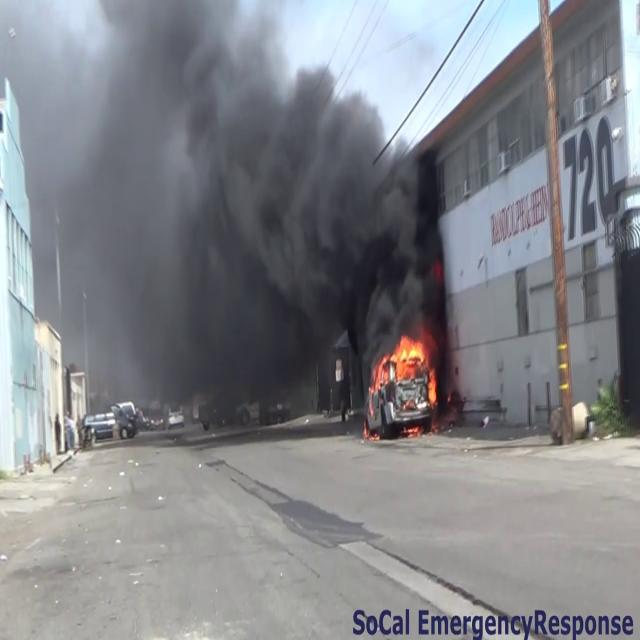Fire: (388, 329, 436, 384)
Smoke: (32, 1, 459, 402)
